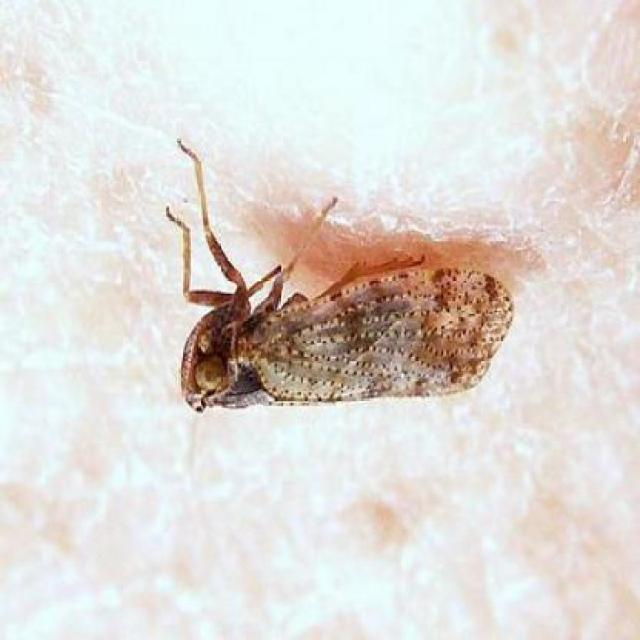brown-planthopper: (159, 199, 515, 416)
